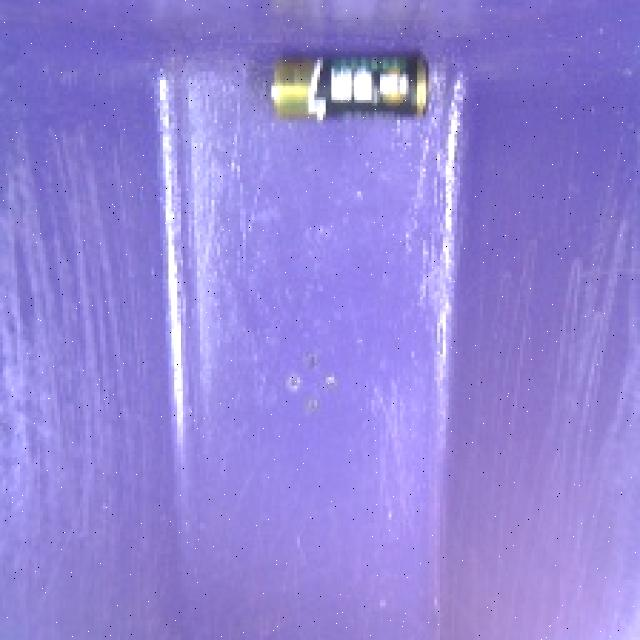battery: (253, 38, 444, 124)
